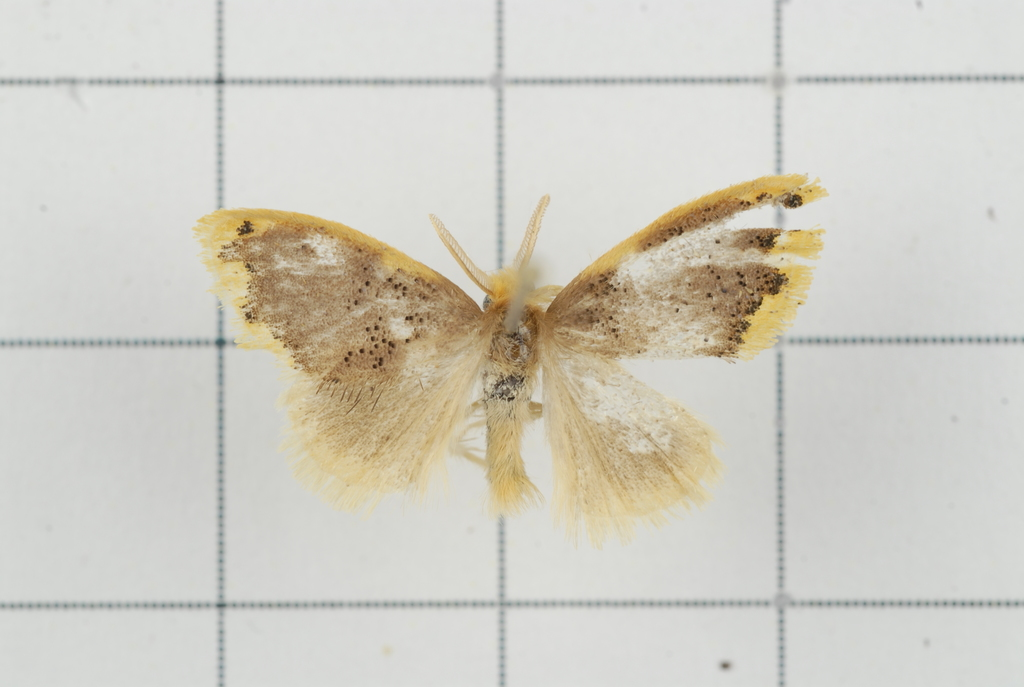Butterfly: (179, 155, 841, 557)
